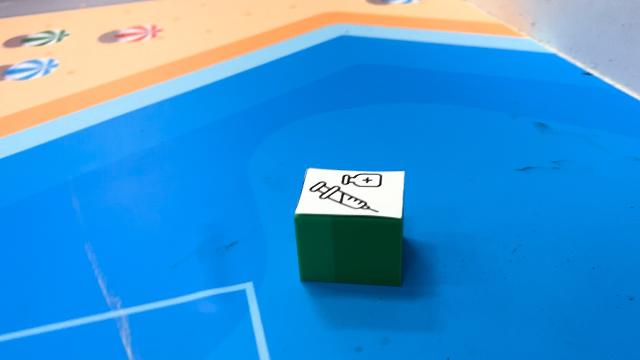syringe: (294, 168, 406, 286)
